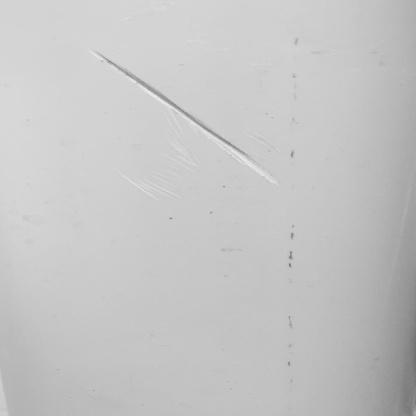sunshang: (90, 43, 274, 185)
